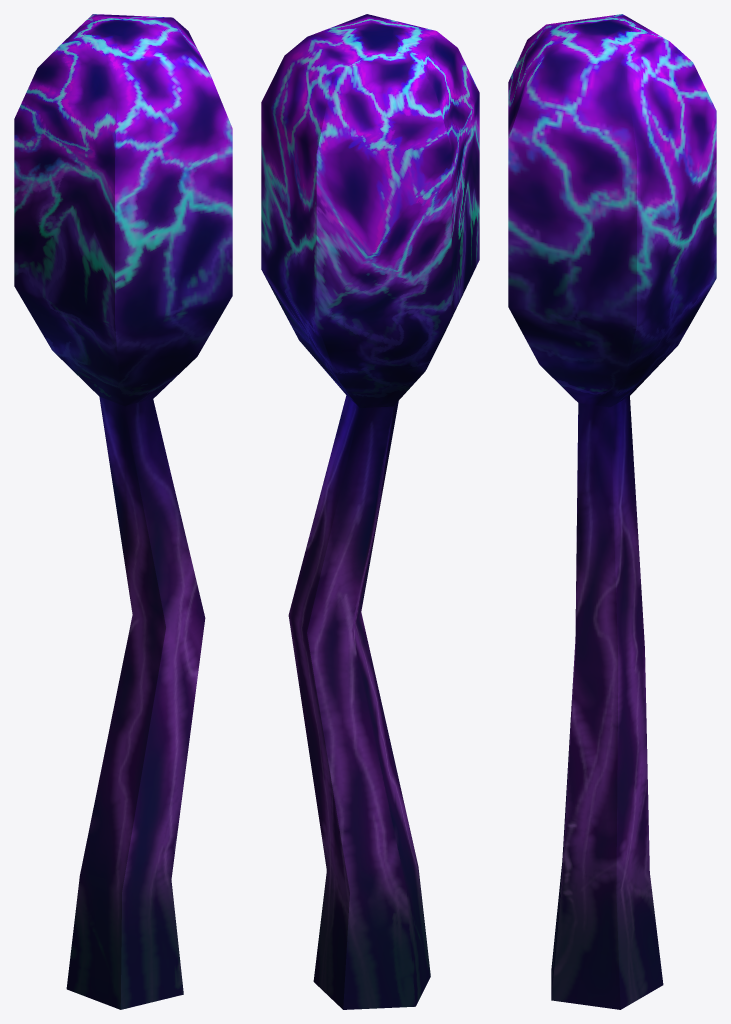
File: shroom3 1.fbx
The picture shows the model from 3 angles, left to right: view 1: azimuth 30°, elevation 25°; view 2: azimuth 150°, elevation 25°; view 3: azimuth 270°, elevation 25°; orthographic projection.
Parts seen in each view (by area): view 1: Cylinder; view 2: Cylinder; view 3: Cylinder.
Boxes of the visible parts, left/top/right/bottom form: Cylinder: left=14, top=14, right=232, bottom=1009; Cylinder: left=261, top=14, right=479, bottom=1009; Cylinder: left=508, top=14, right=716, bottom=1009.
Bounding box in the file's own units: 206 × 989 × 196.
